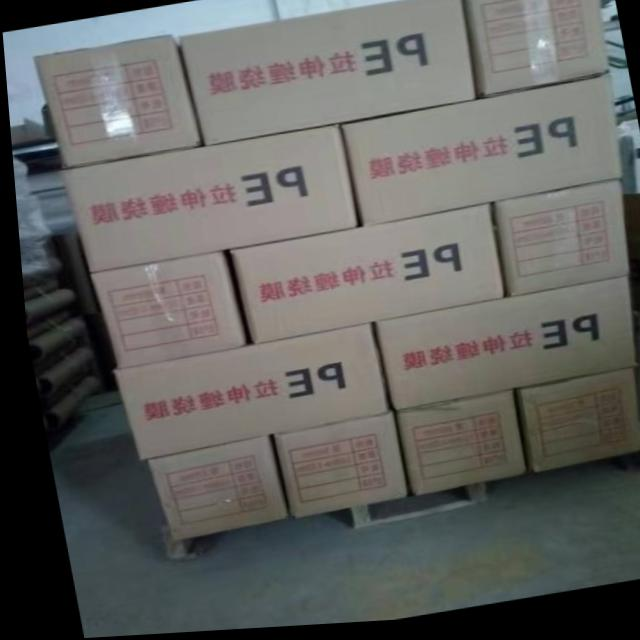box: (178, 0, 474, 148), (62, 127, 358, 274), (337, 82, 618, 230), (226, 207, 503, 346), (106, 325, 385, 460), (366, 283, 630, 415), (33, 37, 202, 169), (86, 251, 247, 370), (489, 186, 625, 302), (138, 435, 282, 543), (460, 0, 607, 105), (266, 415, 398, 522), (385, 395, 516, 500), (504, 375, 633, 479)
